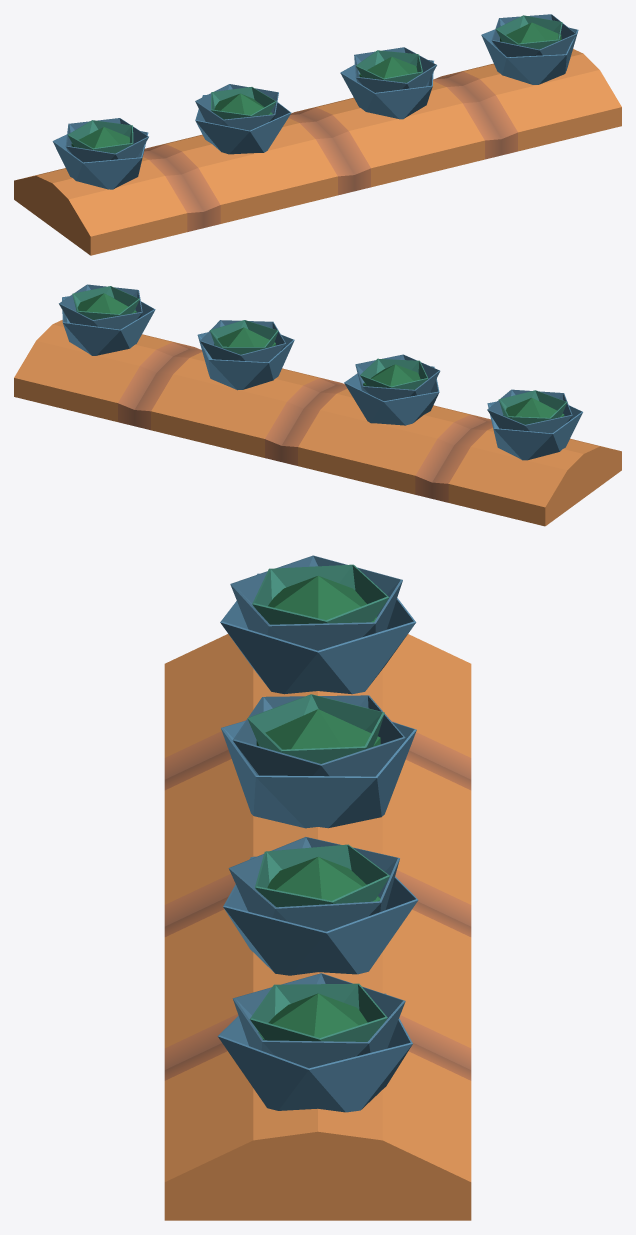
File: FarmVegetation_02.glb
The picture shows the model from 3 angles, top to bottom: view 1: azimuth 30°, elevation 25°; view 2: azimuth 150°, elevation 25°; view 3: azimuth 270°, elevation 25°; orthographic projection. The views are drawn at different scales.
Visible parts, largest first — view 1: FarmVegetation_02; view 2: FarmVegetation_02; view 3: FarmVegetation_02.
Part boxes in pixels (bbox=[...]): FarmVegetation_02: bbox=[14, 14, 621, 255]; FarmVegetation_02: bbox=[14, 284, 621, 526]; FarmVegetation_02: bbox=[164, 555, 471, 1220].
Size of what is drawn, in the model's own units: 4 by 0.6352 by 1.
Materials: 1 (1 with a texture image).
